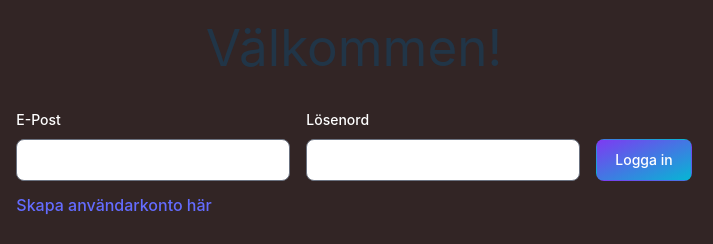
Test case: login › Ska misslyckas att logga in när inga fält är ifyllda
The image size is (713, 244).
Click the button with test id "loginSubmit": (644, 160) x1=596 y1=139 x2=691 y2=181
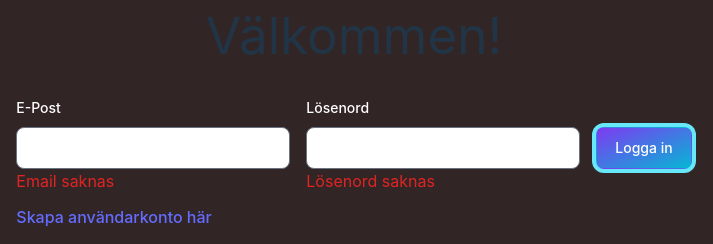
expect the text "Email saknas" is shown: met, box x1=16 y1=171 x2=114 y2=191
expect the text "Lösenord saknas" is shown: met, box x1=306 y1=171 x2=435 y2=191
